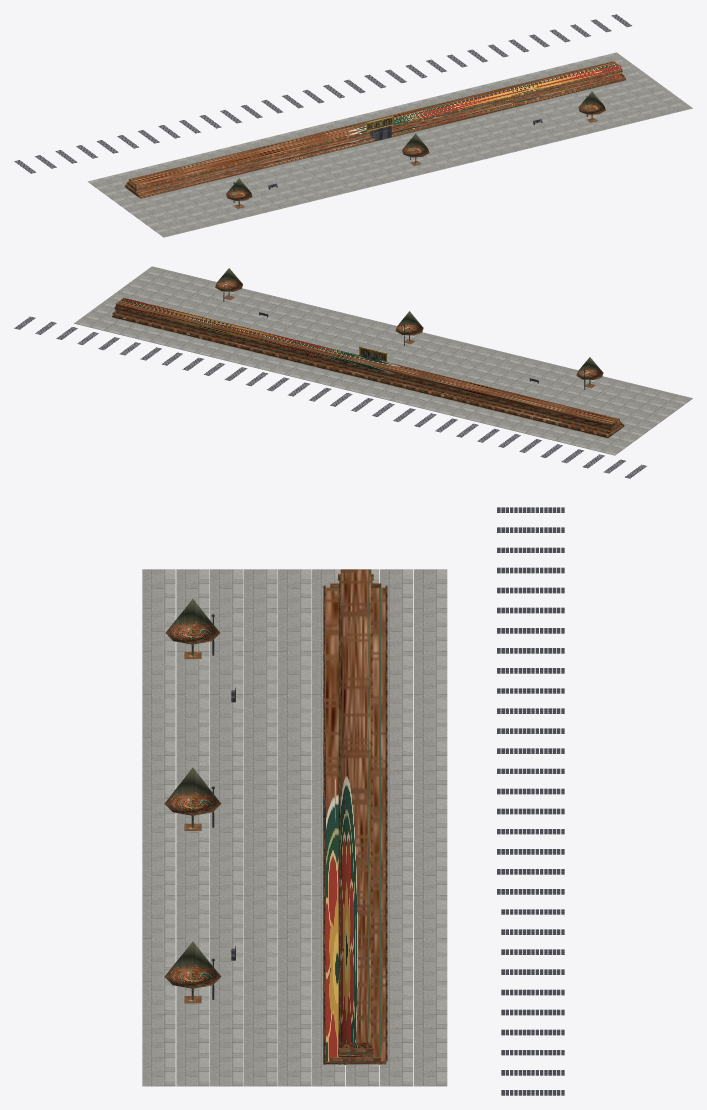
3 renders of one model, top to bottom at view 1: azimuth 30°, elevation 25°; view 2: azimuth 150°, elevation 25°; view 3: azimuth 270°, elevation 25°, orthographic. The views are drawn at different scales.
Visible parts, largest first — view 1: 11140_02_04520_040_01__plinth_ground_base, 11140_02_04520_040_02__mass_body_facade, 11140_02_04520_040_03__roof_deck_structure, 11140_02_04520_040_06__landscape_greenery, 11140_02_04520_040_05__door_hardware_iron, 11140_02_04520_040_05__window_sash_glass; view 2: 11140_02_04520_040_01__plinth_ground_base, 11140_02_04520_040_02__mass_body_facade, 11140_02_04520_040_03__roof_deck_structure, 11140_02_04520_040_06__landscape_greenery; view 3: 11140_02_04520_040_01__plinth_ground_base, 11140_02_04520_040_02__mass_body_facade, 11140_02_04520_040_03__roof_deck_structure, 11140_02_04520_040_06__landscape_greenery, 11140_02_04520_040_05__door_hardware_iron.
Boxes of the visible parts, left/top/right/bottom form: 11140_02_04520_040_01__plinth_ground_base: left=87, top=52, right=692, bottom=237; 11140_02_04520_040_02__mass_body_facade: left=124, top=61, right=625, bottom=198; 11140_02_04520_040_03__roof_deck_structure: left=14, top=14, right=631, bottom=173; 11140_02_04520_040_06__landscape_greenery: left=226, top=91, right=605, bottom=208; 11140_02_04520_040_05__door_hardware_iron: left=153, top=79, right=611, bottom=202; 11140_02_04520_040_05__window_sash_glass: left=156, top=74, right=605, bottom=191; 11140_02_04520_040_01__plinth_ground_base: left=74, top=266, right=692, bottom=455; 11140_02_04520_040_02__mass_body_facade: left=112, top=298, right=624, bottom=438; 11140_02_04520_040_03__roof_deck_structure: left=14, top=316, right=646, bottom=478; 11140_02_04520_040_06__landscape_greenery: left=215, top=268, right=603, bottom=388; 11140_02_04520_040_01__plinth_ground_base: left=142, top=569, right=447, bottom=1086; 11140_02_04520_040_02__mass_body_facade: left=323, top=569, right=387, bottom=1064; 11140_02_04520_040_03__roof_deck_structure: left=497, top=507, right=564, bottom=1095; 11140_02_04520_040_06__landscape_greenery: left=164, top=599, right=221, bottom=1003; 11140_02_04520_040_05__door_hardware_iron: left=211, top=595, right=345, bottom=1043.
Bounding box in the file's own units: 137 × 6.6 × 41.48.
Materials: 7 (7 with a texture image).
